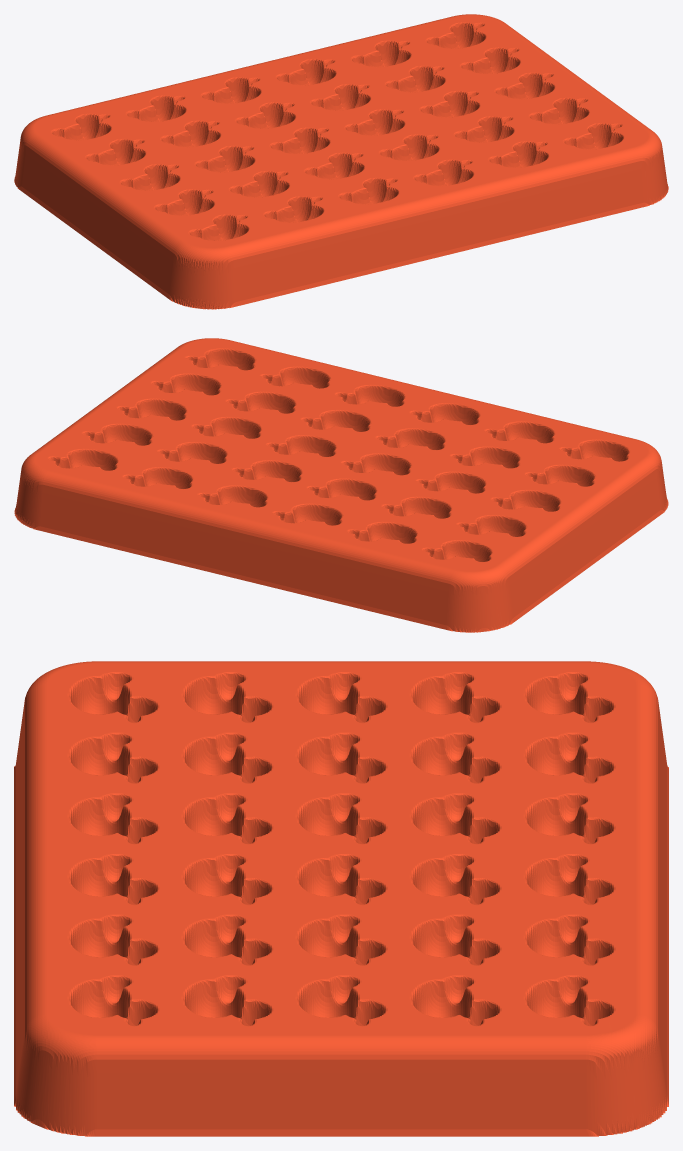
File: mold.glb
3 views of the same model, one above another, from view 1: azimuth 30°, elevation 25°; view 2: azimuth 150°, elevation 25°; view 3: azimuth 270°, elevation 25° (orthographic). The views are drawn at different scales.
Visible parts, largest first — view 1: geometry_0; view 2: geometry_0; view 3: geometry_0.
Part boxes in pixels (bbox=[...]): geometry_0: bbox=[14, 14, 668, 309]; geometry_0: bbox=[14, 338, 668, 632]; geometry_0: bbox=[14, 661, 668, 1136].
Bounding box in the file's own units: 0.1028 × 0.0105 × 0.0712.
